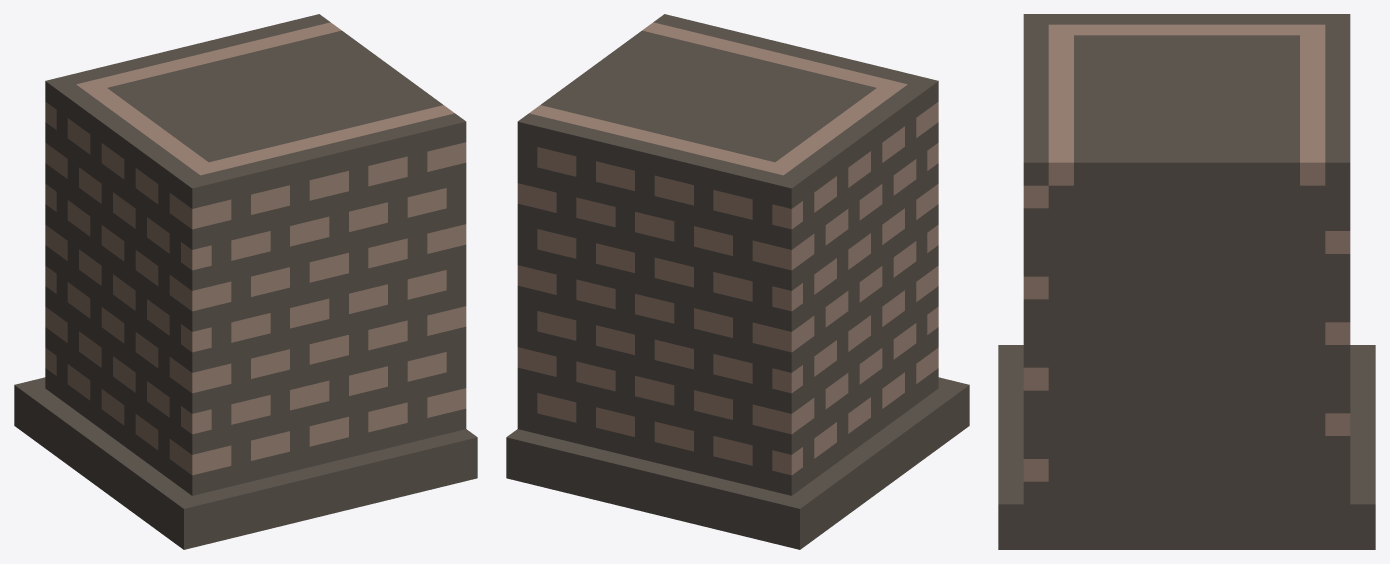
The model's file is dungeon_a_a_inner_wall_ending.obj.
The picture shows the model from 3 angles, left to right: view 1: azimuth 30°, elevation 25°; view 2: azimuth 150°, elevation 25°; view 3: azimuth 270°, elevation 25°; orthographic projection. The views are drawn at different scales.
Bounding box in the file's own units: 1.5 × 1.7 × 1.5.
1 material, 1 textured.
